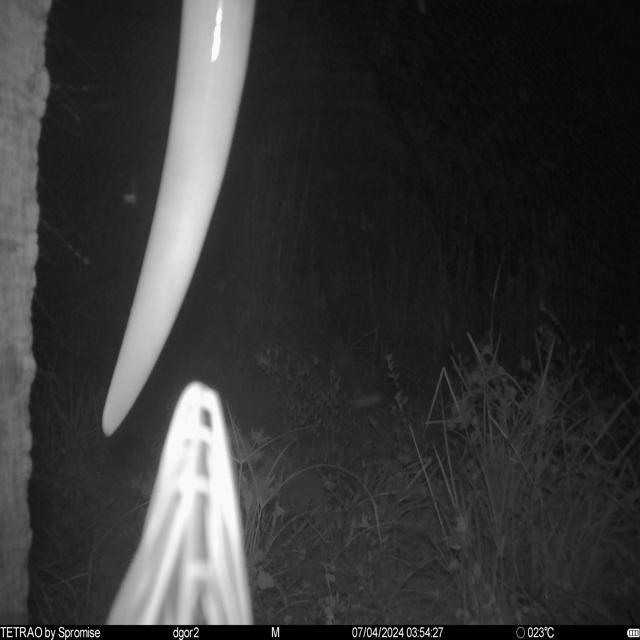elephant: (1, 0, 260, 625)
tusk: (102, 0, 260, 439)
